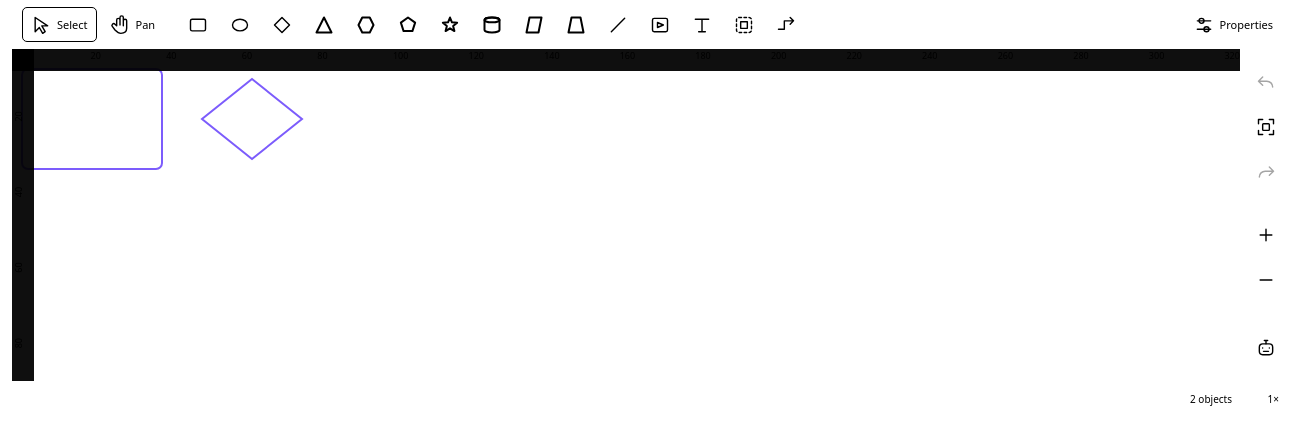
Test: canvas precision gestures › shows optional metric rulers and multiplier zoom while keeping the world grid aligned
The image size is (1292, 423).
Expected: the text named "Canvas zoom" reads "1×", [1268,392,1279,406]
Click the button named "Zoom in". click: (1266, 235)
box: [1247,216,1285,254]
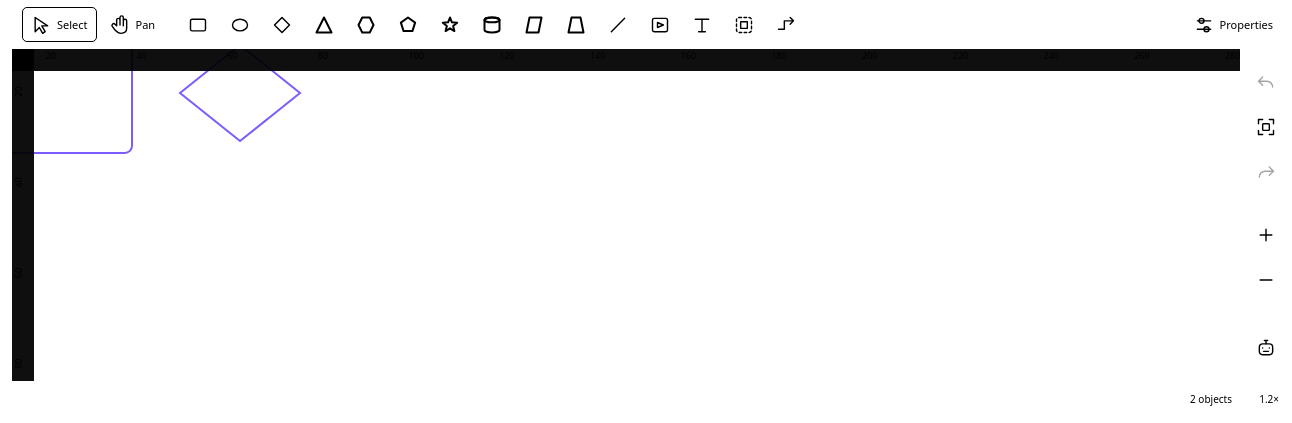
Now the text named "Canvas zoom" reads "1.2×", box [1259,392,1279,406]
